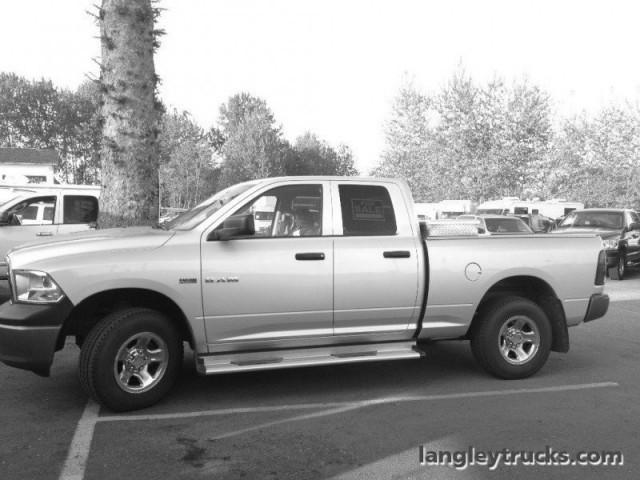car: (3, 181, 601, 413)
